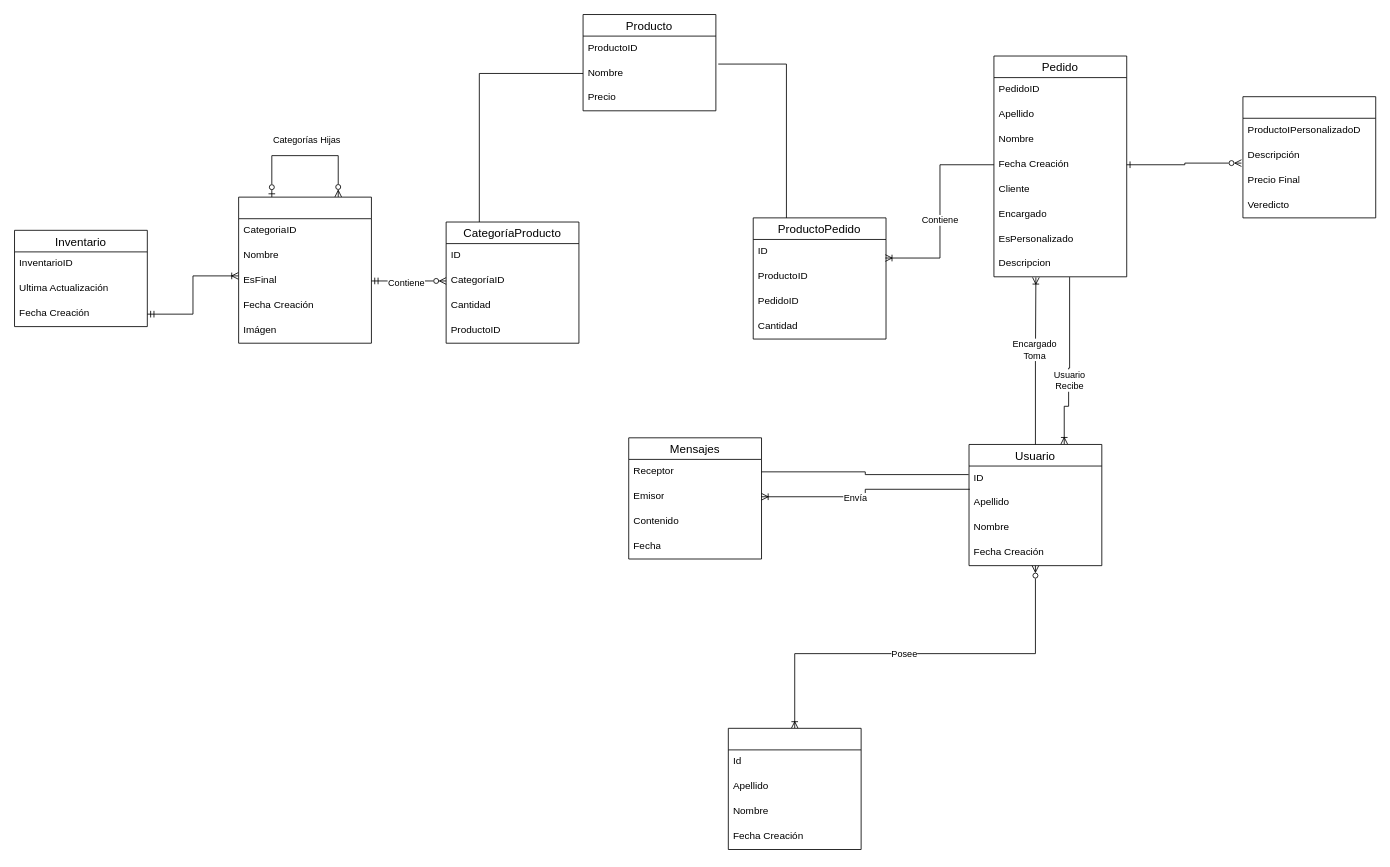
Image size: 1390x867. Some labels were removed from this diagram. Here are the shapes that lost their labels. From the top down, the box of each, then its label:
(1242, 96, 1376, 218): ProductoPersonalizado
(238, 196, 371, 343): Categoría
(727, 727, 861, 850): Roles
